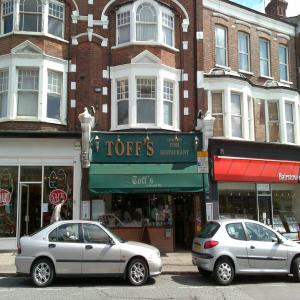Vehicle-registration-plate: (196, 244, 202, 251)
